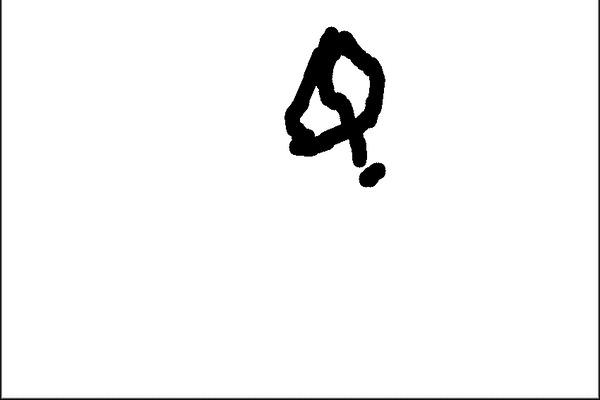Q: (267, 20, 391, 167)
